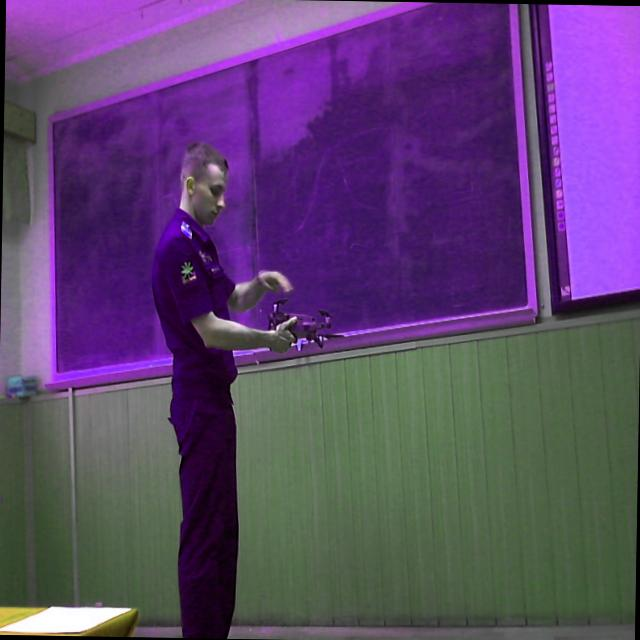drone: (252, 288, 346, 372)
